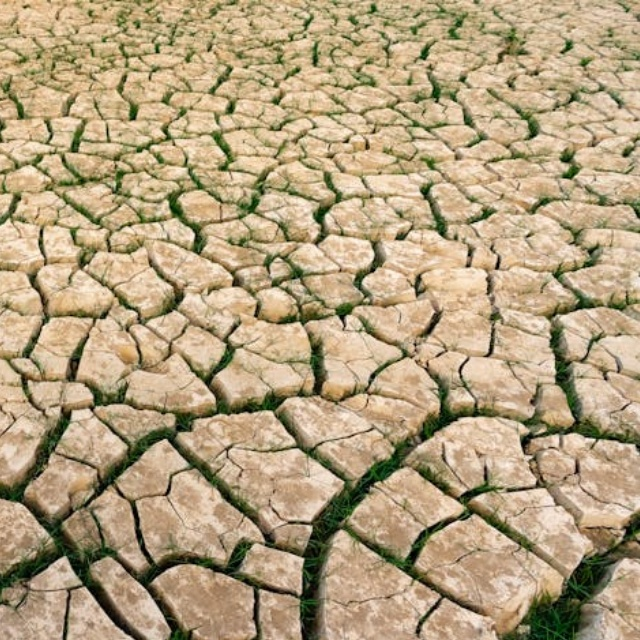深大裂缝: (21, 339, 640, 640)
网状裂隙: (0, 0, 640, 440)
